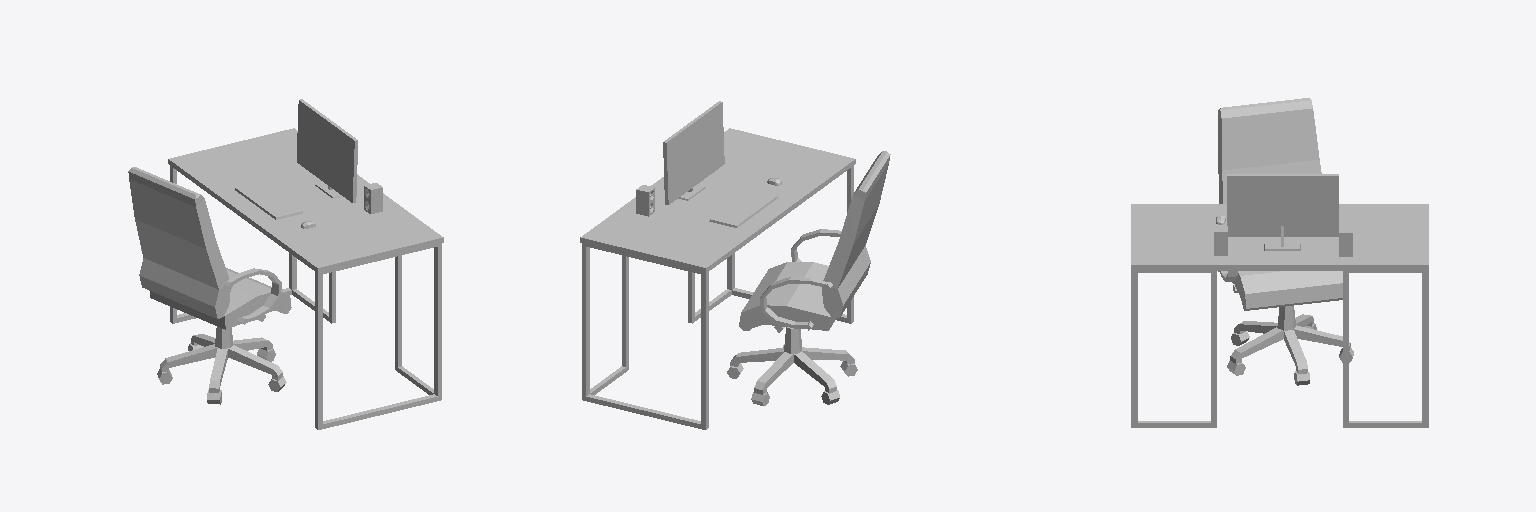
File: laptop.obj
3 views of the same model, side by side, from view 1: azimuth 30°, elevation 25°; view 2: azimuth 150°, elevation 25°; view 3: azimuth 270°, elevation 25° (orthographic).
Parts seen in each view (by area): view 1: 1_171, 1_176, 1_175; view 2: 1_171, 1_176, 1_175; view 3: 1_171, 1_176, 1_175.
Boxes of the visible parts, box(x1,y1,x2,y2) form: 1_171: box(168, 128, 443, 429); 1_176: box(128, 167, 291, 404); 1_175: box(235, 99, 382, 228); 1_171: box(580, 128, 855, 429); 1_176: box(727, 151, 890, 405); 1_175: box(636, 101, 781, 227); 1_171: box(1131, 204, 1428, 427); 1_176: box(1218, 98, 1353, 385); 1_175: box(1214, 174, 1352, 256).
Size of the model in its own units: 3.51 by 3.48 by 4.02.